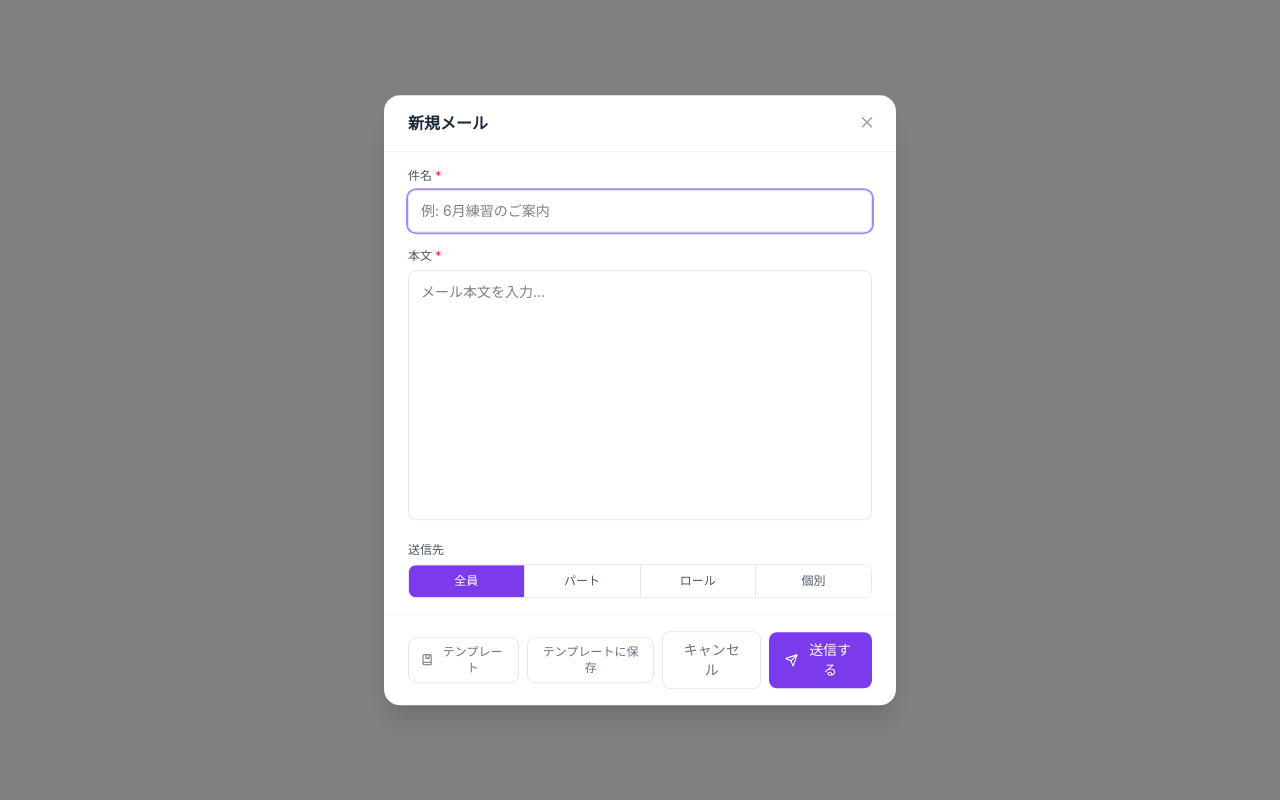
Test: ComposeModal（テンプレートパネル） › 🗑️クリックで削除確認を表示し、キャンセルで戻る
Click the button "テンプレート": [464, 660] box [408,637,519,683]
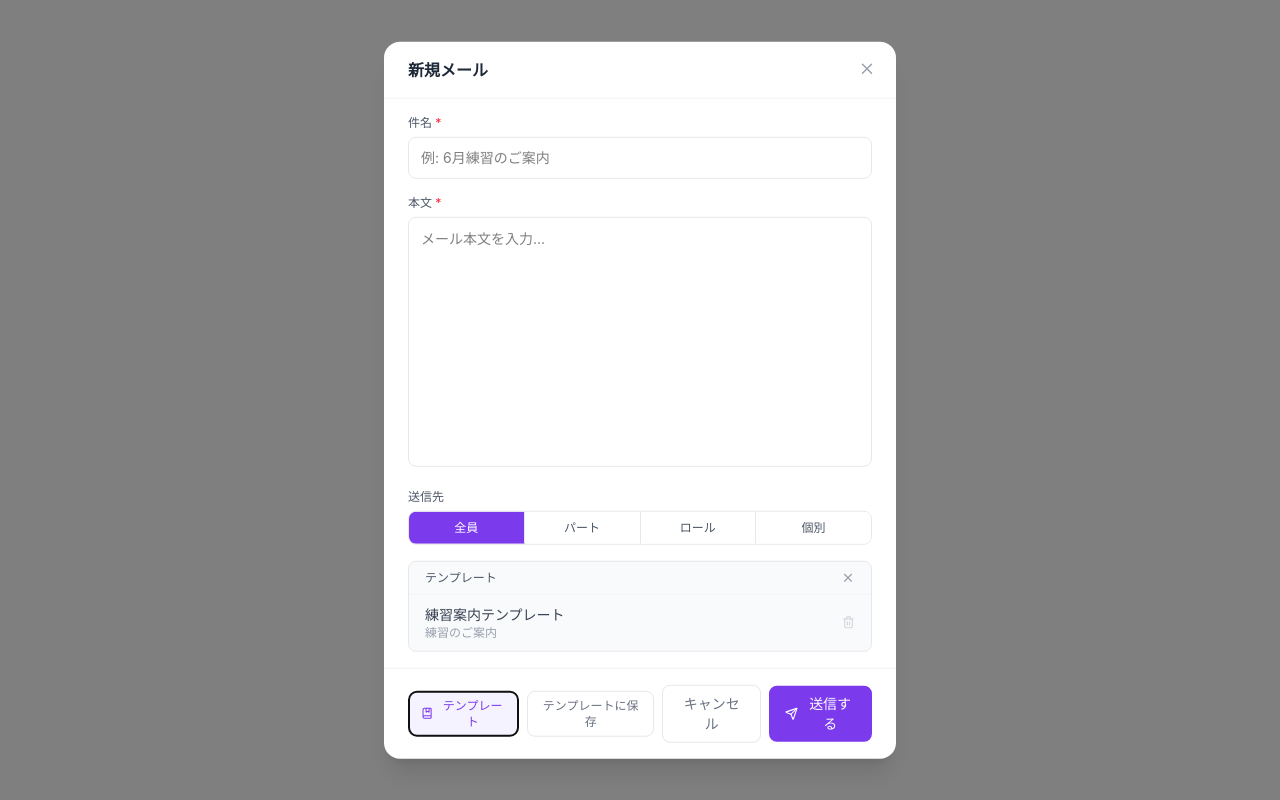
Click the button named "テンプレート「練習案内テンプレート」を削除": [848, 622] box [842,616,855,629]
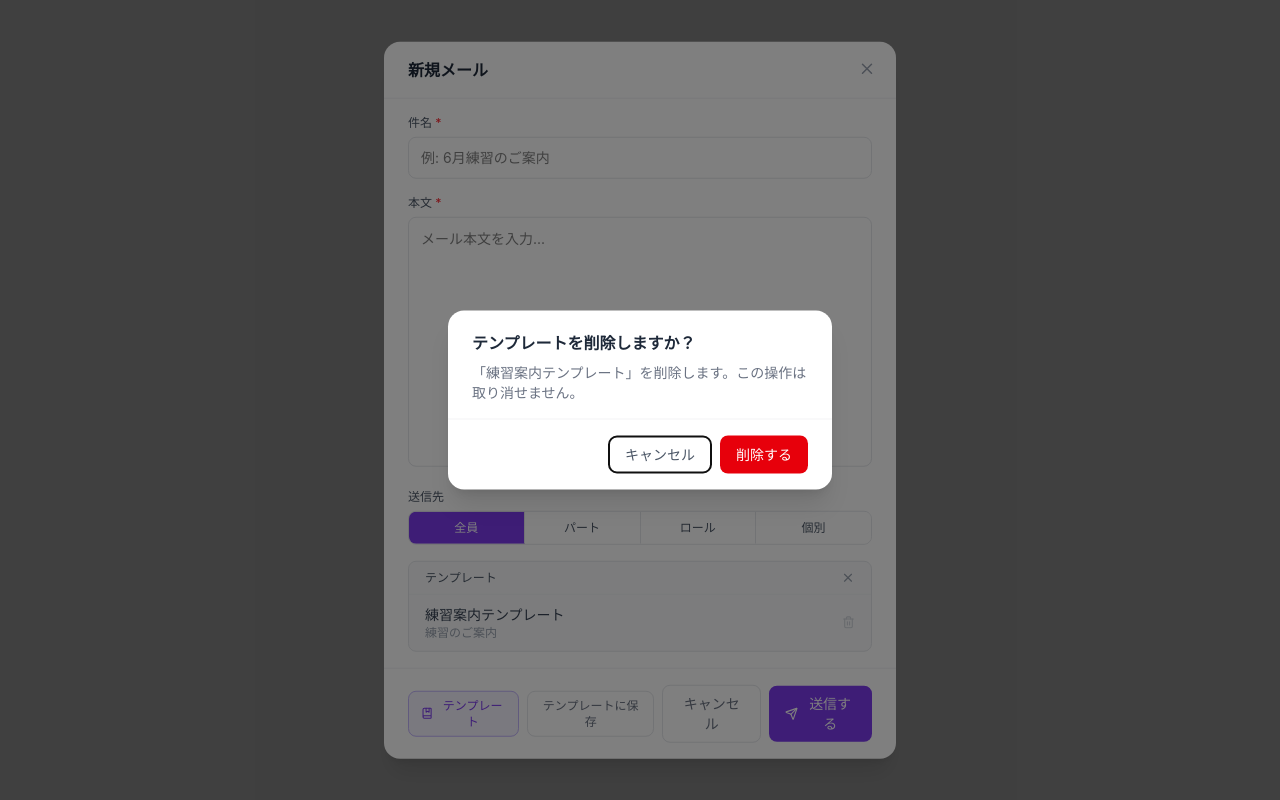
expect the dialog "テンプレートを削除しますか？" shows "「練習案内テンプレート」を削除します": met, box [472,364,806,400]
Click the button "キャンセル": [660, 454] box [608,436,712,474]
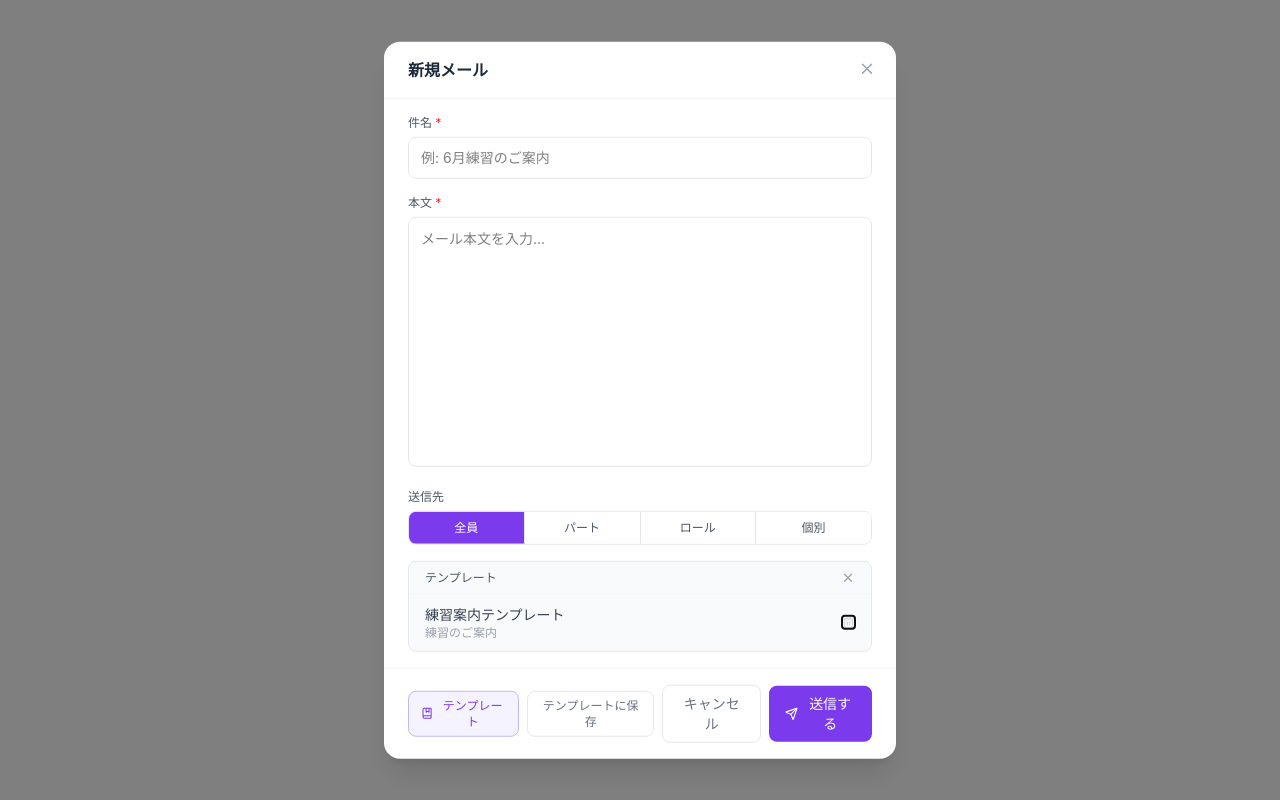
expect the text "練習案内テンプレート" is shown: met, box [425,605,565,622]
expect the dialog "テンプレートを削除しますか？ 「練習案内テンプレート」を削除します。この操作は取り消せません。 キャンセル 削除する" is gone: met
